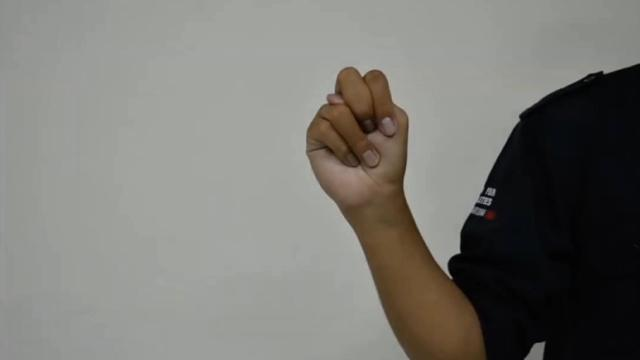N: (304, 66, 412, 202)
